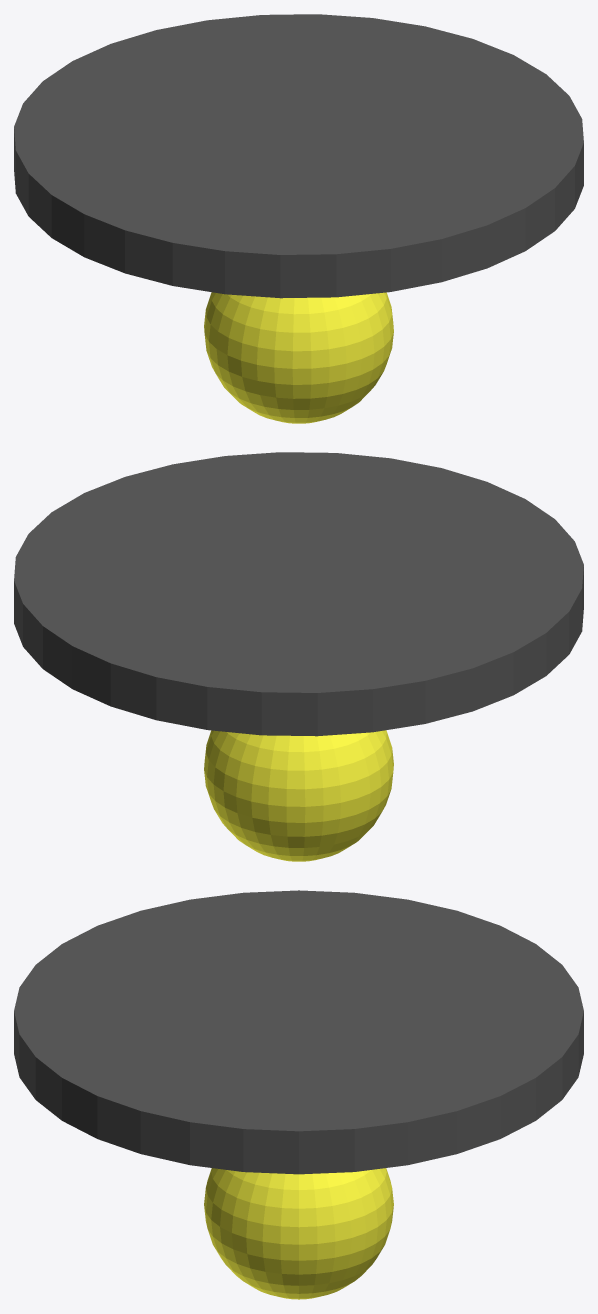
File: light.fbx
3 views of the same model, one above another, from view 1: azimuth 30°, elevation 25°; view 2: azimuth 150°, elevation 25°; view 3: azimuth 270°, elevation 25° (orthographic).
Visible parts, largest first — view 1: Cylinder.001, Sphere; view 2: Cylinder.001, Sphere; view 3: Cylinder.001, Sphere.
Part boxes in pixels (x1,y1,x2,y2): Cylinder.001: (14,14,583,298); Sphere: (204,292,393,423); Cylinder.001: (14,452,583,736); Sphere: (204,730,393,861); Cylinder.001: (14,890,583,1174); Sphere: (204,1168,393,1299).
Size of the model in its own units: 60 by 32.5 by 60.
